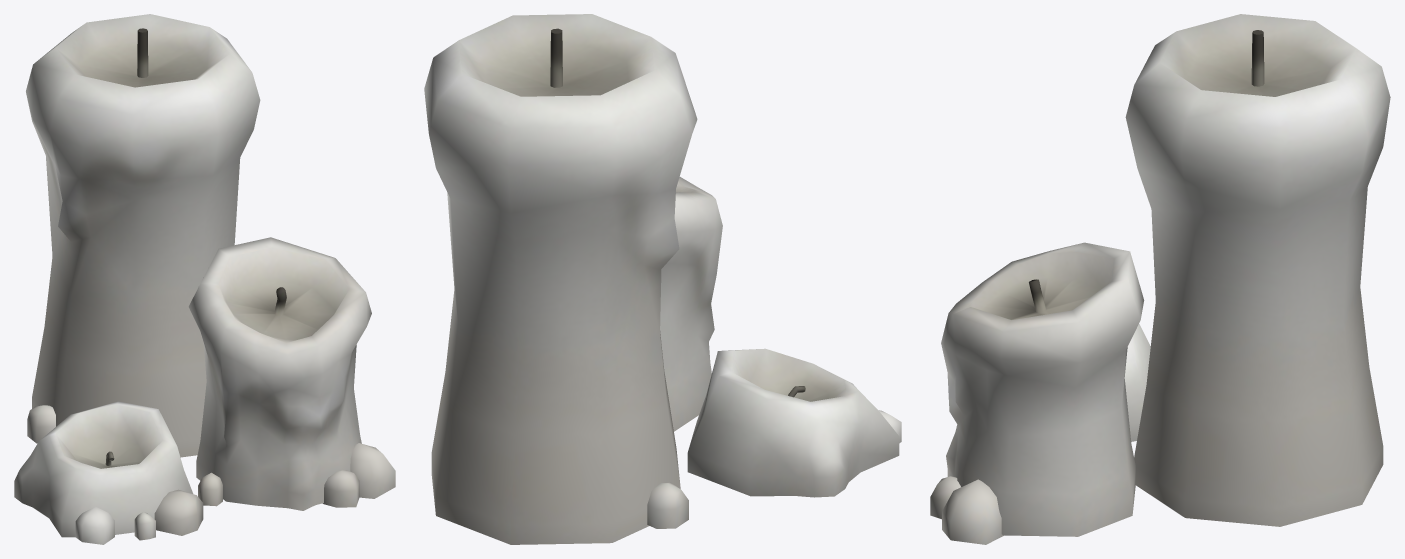
Rendered from candle.fbx.
3 renders of one model, left to right at view 1: azimuth 30°, elevation 25°; view 2: azimuth 150°, elevation 25°; view 3: azimuth 270°, elevation 25°, orthographic. The views are drawn at different scales.
Visible parts, largest first — view 1: candle_001, candle_002, candle_003; view 2: candle_001, candle_003, candle_002; view 3: candle_001, candle_002, candle_003.
Part boxes in pixels (bbox=[...]): candle_001: bbox=[26, 14, 260, 457]; candle_002: bbox=[188, 237, 395, 510]; candle_003: bbox=[14, 401, 203, 544]; candle_001: bbox=[424, 14, 697, 544]; candle_003: bbox=[687, 348, 901, 497]; candle_002: bbox=[660, 177, 722, 431]; candle_001: bbox=[1125, 14, 1390, 526]; candle_002: bbox=[930, 242, 1144, 544]; candle_003: bbox=[1124, 324, 1150, 441].
Size of the model in its own units: 19.68 by 23.78 by 22.24.
